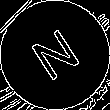N_SE: (24, 23, 86, 87)
